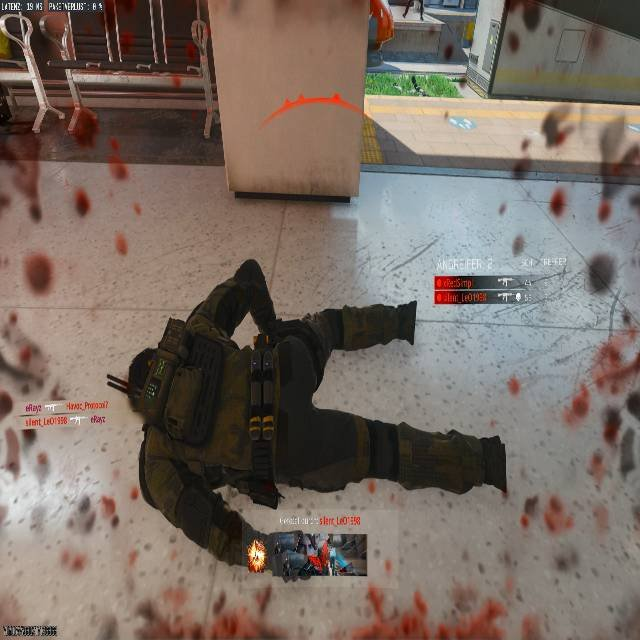player: (401, 0, 426, 20)
